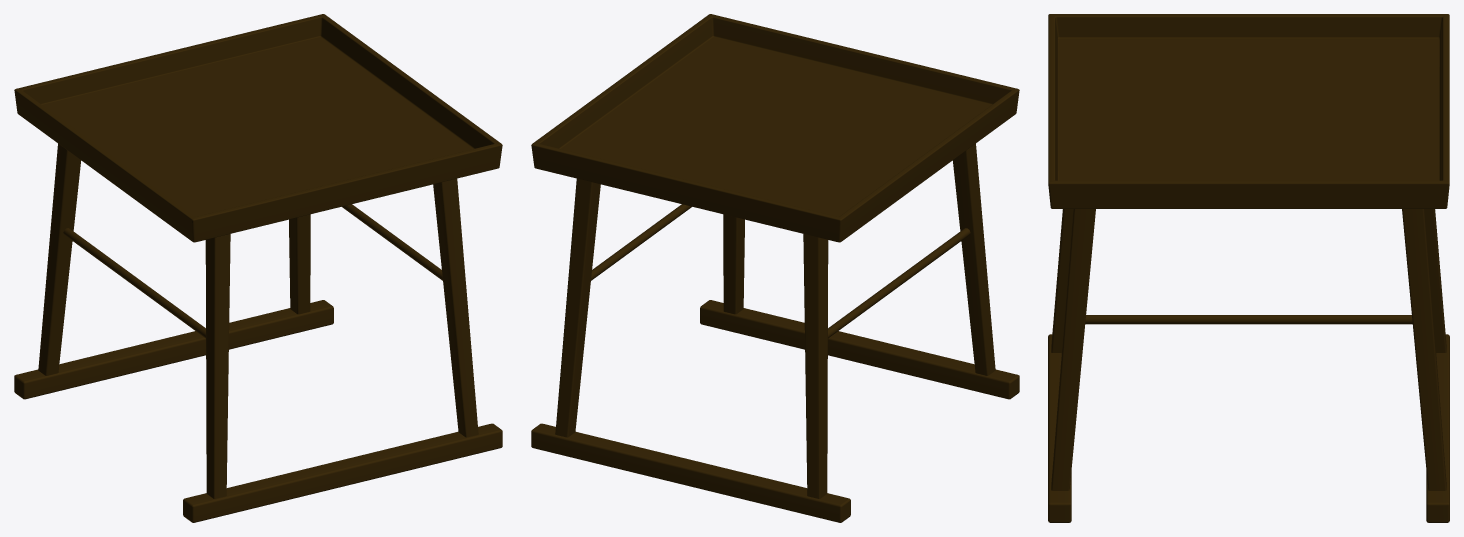
File: Restaurant_Flowerstand.fbx
3 views of the same model, side by side, from view 1: azimuth 30°, elevation 25°; view 2: azimuth 150°, elevation 25°; view 3: azimuth 270°, elevation 25° (orthographic). The views are drawn at different scales.
Parts seen in each view (by area): view 1: Restaurant_Flowerstand; view 2: Restaurant_Flowerstand; view 3: Restaurant_Flowerstand.
Boxes of the visible parts, left/top/right/bottom form: Restaurant_Flowerstand: left=14, top=14, right=502, bottom=522; Restaurant_Flowerstand: left=531, top=14, right=1019, bottom=522; Restaurant_Flowerstand: left=1048, top=14, right=1449, bottom=522.
Size of the model in its own units: 40 by 37.4 by 40.
